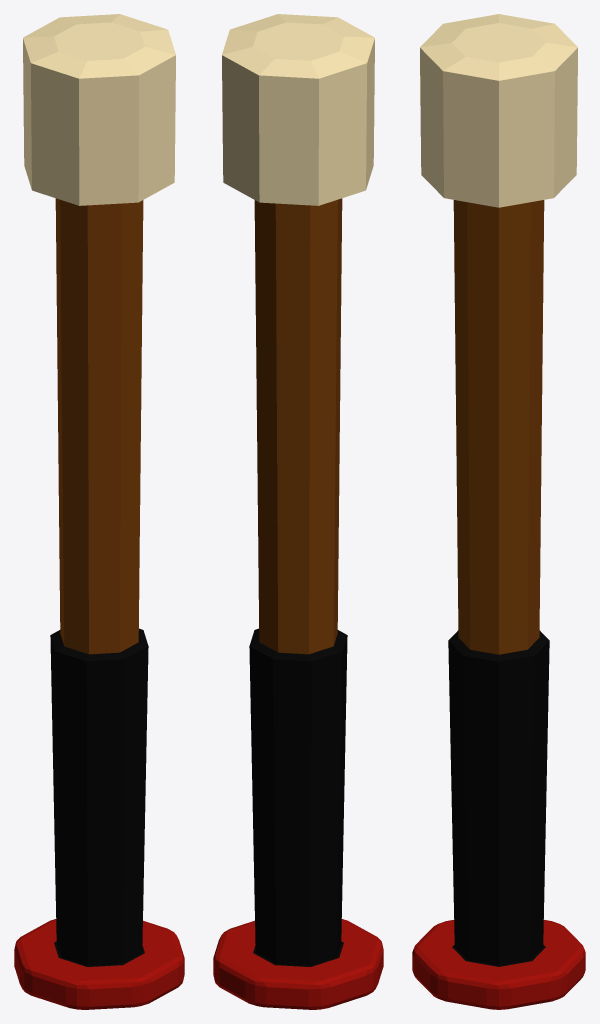
File: Fire Stick .obj
3 renders of one model, left to right at view 1: azimuth 30°, elevation 25°; view 2: azimuth 150°, elevation 25°; view 3: azimuth 270°, elevation 25°, orthographic.
Parts seen in each view (by area): view 1: Cylinder; view 2: Cylinder; view 3: Cylinder.
Boxes of the visible parts, x1,y1,x2,y2 form: Cylinder: [14, 14, 184, 1009]; Cylinder: [213, 14, 383, 1009]; Cylinder: [412, 14, 585, 1009].
Bounding box in the file's own units: 0.1519 × 0.9016 × 0.1519.
